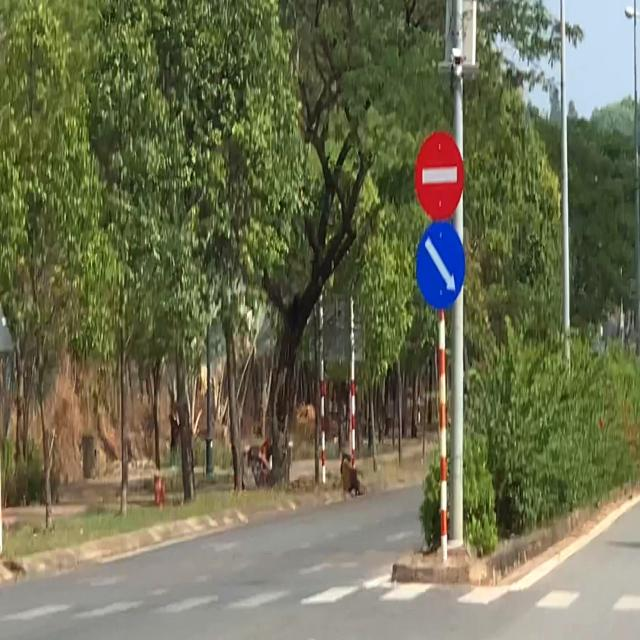Cam nguoc chieu: (415, 132, 464, 220)
Hieu lenh: (416, 220, 465, 310)
